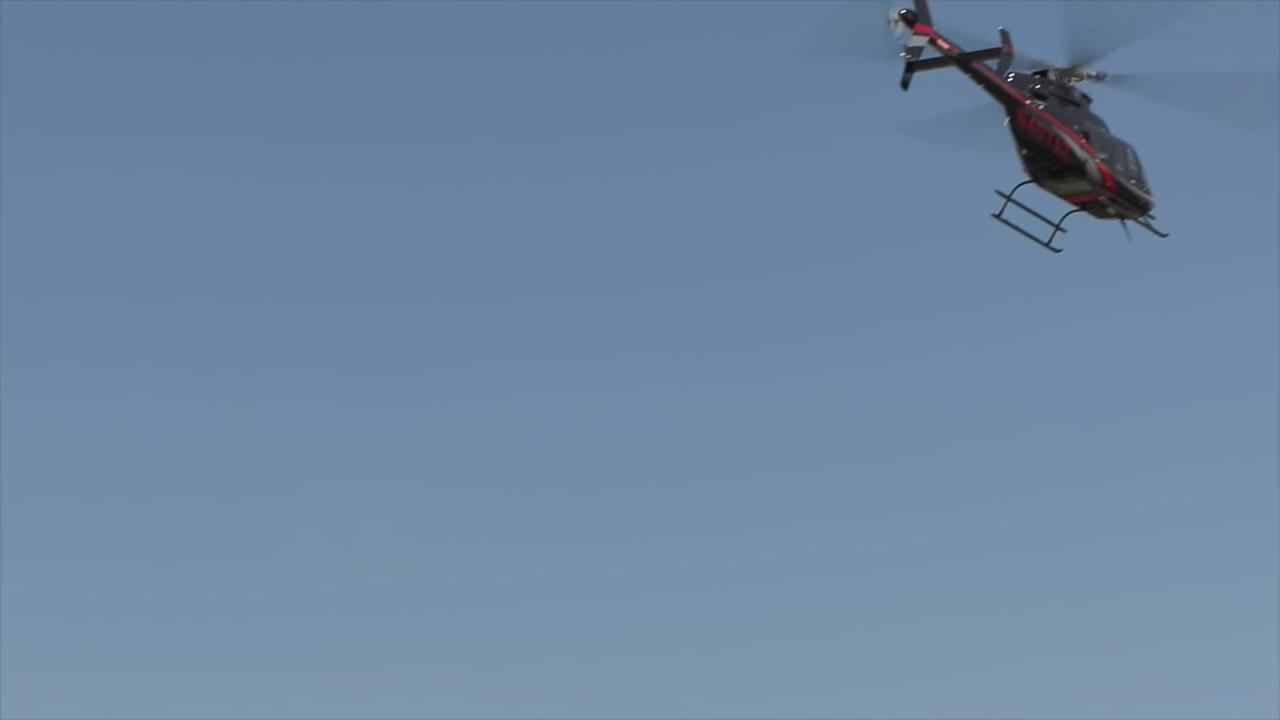Helicopter: (805, 0, 1280, 292)
